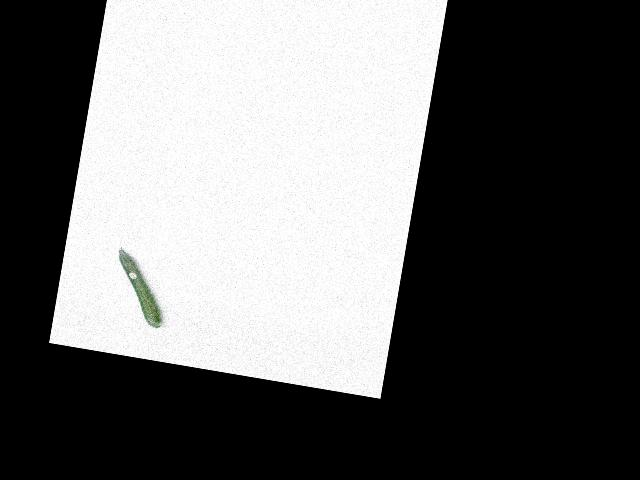cucumber: (107, 246, 172, 328)
